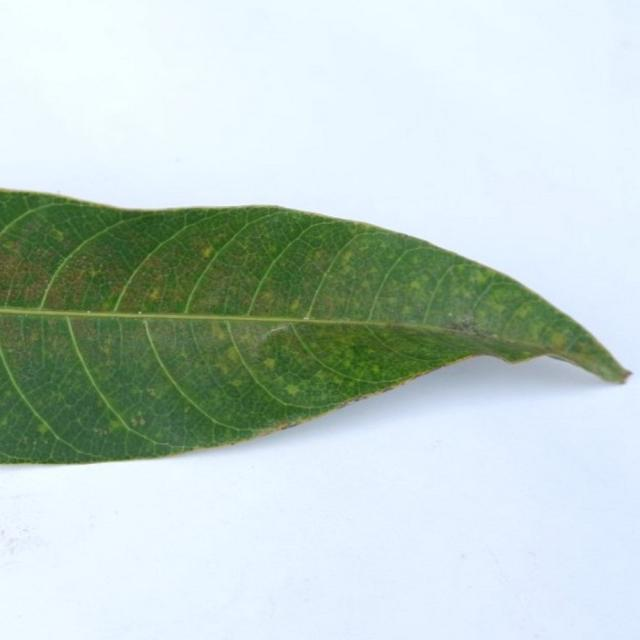Mango: (0, 189, 628, 463)
Powdery_Mildew: (260, 352, 286, 375), (451, 316, 480, 333), (222, 383, 243, 401), (211, 323, 227, 342), (550, 332, 567, 349), (3, 239, 21, 254), (490, 301, 507, 314), (471, 271, 486, 285), (515, 306, 531, 319), (262, 358, 277, 371), (226, 348, 239, 362), (340, 353, 353, 367), (110, 422, 126, 433), (261, 291, 274, 304), (341, 250, 354, 263), (219, 361, 231, 375), (37, 422, 51, 434), (275, 376, 289, 388), (50, 229, 64, 241), (286, 385, 301, 396), (452, 264, 467, 275), (409, 280, 422, 292), (201, 245, 213, 258), (149, 289, 161, 301), (290, 299, 302, 311), (230, 379, 244, 389), (93, 426, 107, 436), (314, 370, 326, 381), (53, 392, 65, 403), (314, 250, 325, 261), (147, 385, 158, 396), (100, 301, 112, 311), (88, 268, 99, 278), (386, 297, 397, 307), (332, 375, 344, 384), (100, 345, 110, 355), (267, 244, 277, 254), (370, 364, 381, 373), (21, 435, 30, 445), (0, 417, 9, 427), (75, 416, 84, 425), (96, 398, 105, 406), (130, 417, 138, 426), (139, 417, 146, 426), (185, 406, 191, 413), (33, 438, 38, 445)
